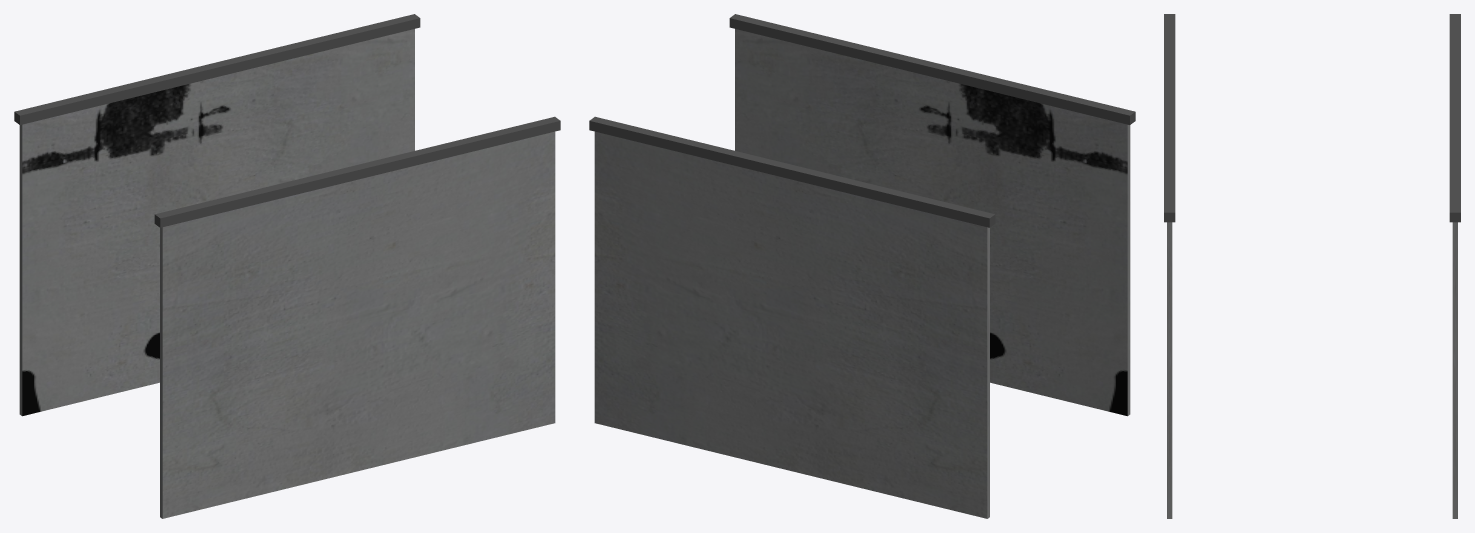
Rendered from toilet wall seperated.fbx.
3 views of the same model, side by side, from view 1: azimuth 30°, elevation 25°; view 2: azimuth 150°, elevation 25°; view 3: azimuth 270°, elevation 25° (orthographic).
Visible parts, largest first — view 1: Cube, Cube.032; view 2: Cube.032, Cube; view 3: Cube, Cube.032.
Part boxes in pixels (x1,y1,x2,y2): Cube: (154,116,560,518); Cube.032: (14,14,420,416); Cube.032: (589,116,995,518); Cube: (729,14,1135,416); Cube: (1164,14,1175,518); Cube.032: (1449,14,1460,518).
Bounding box in the file's own units: 381 × 275 × 241.
4 materials, 3 textured.
